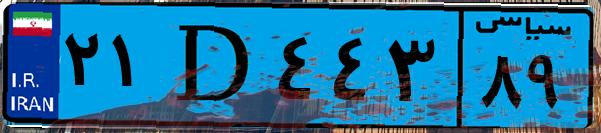1: (110, 28, 158, 98)
2: (57, 26, 110, 100)
3: (385, 28, 445, 110)
4: (270, 28, 330, 110), (330, 28, 385, 110)
8: (475, 38, 525, 113)
9: (525, 38, 570, 115)
D: (158, 12, 270, 120)
